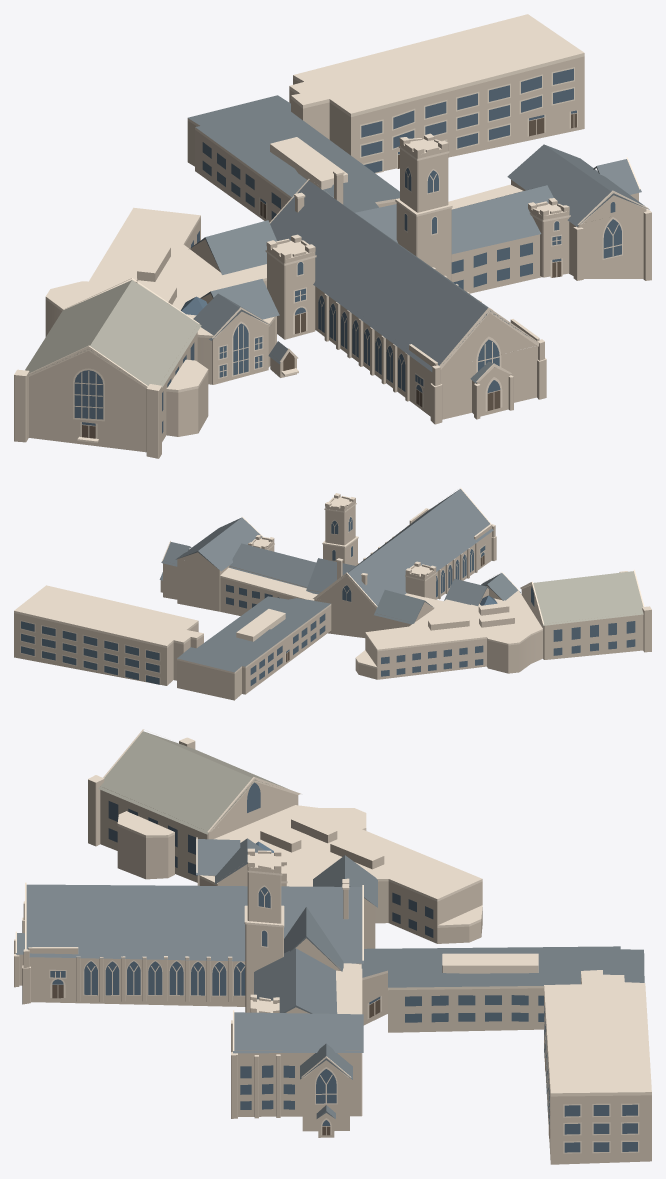
File: clt-myers-park-presbyterian.glb
The picture shows the model from 3 angles, top to bottom: view 1: azimuth 30°, elevation 25°; view 2: azimuth 150°, elevation 25°; view 3: azimuth 270°, elevation 25°; orthographic projection. The views are drawn at different scales.
Parts seen in each view (by area): view 1: Myers Park Presbyterian Church; view 2: Myers Park Presbyterian Church; view 3: Myers Park Presbyterian Church.
Boxes of the visible parts, x1,y1,x2,y2 form: Myers Park Presbyterian Church: (14,14,651,458); Myers Park Presbyterian Church: (14,487,651,700); Myers Park Presbyterian Church: (14,729,651,1164).
Size of the model in its own units: 137 by 30.93 by 106.
